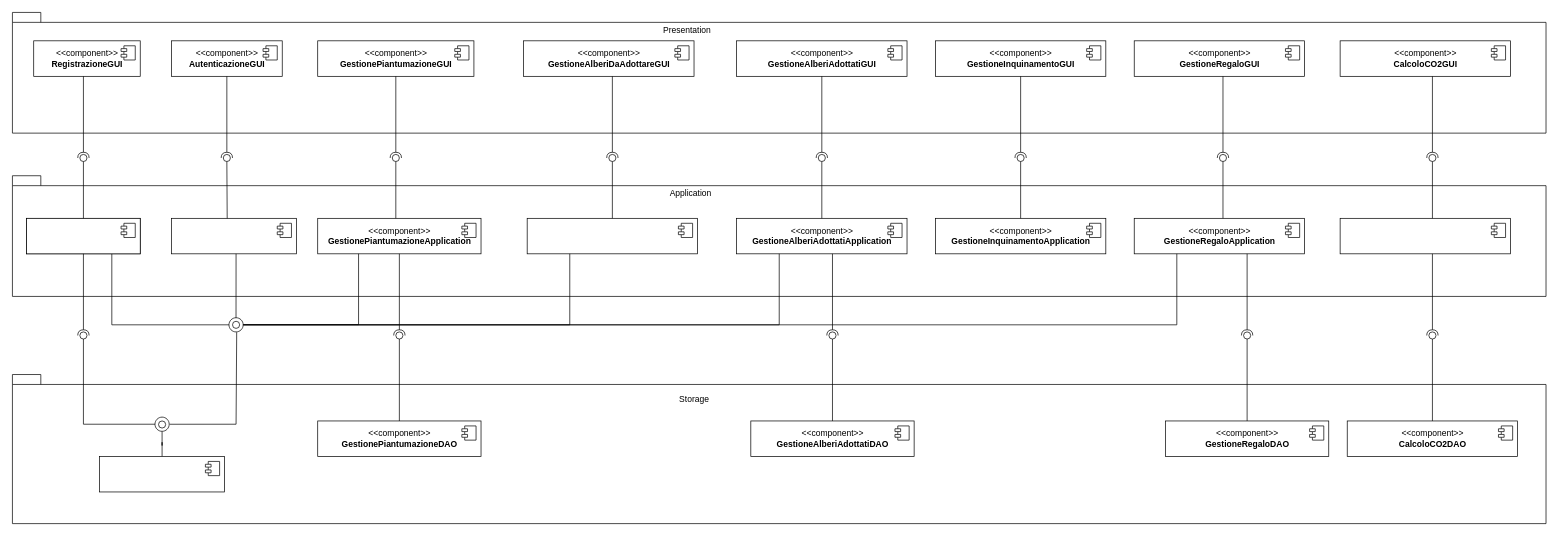
This 1558x536 diagram has some shape labels left out. The box of each missing label's shape, as (x1, y1, x2, y2) in pixels:
<<component>> AutenticazioneApplication: (171, 218, 296, 254)
<<component>> AutenticazioneDAO: (99, 456, 225, 492)
<<component>> CalcoloCO2 Application: (1339, 218, 1511, 254)
<<component>> GestioneAlberiDaAdottare Application: (526, 218, 698, 254)
<<component>> RegistrazioneApplication: (26, 218, 140, 254)
